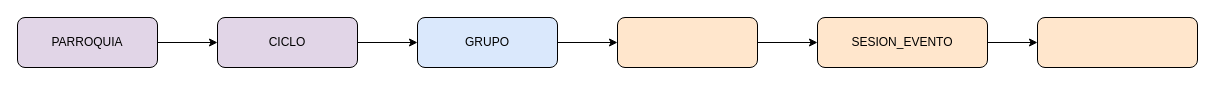
Some shapes in this 1215 by 85 pixel diagram are drawn without their labels. The shapes that lost their labels are listed below. From the top down, each one's centre as x and y in pixels, then its label:
the point at 687,42: EVENTO
the point at 1117,42: ASISTENCIA
